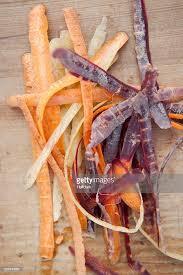Organic: (3, 2, 183, 275)
